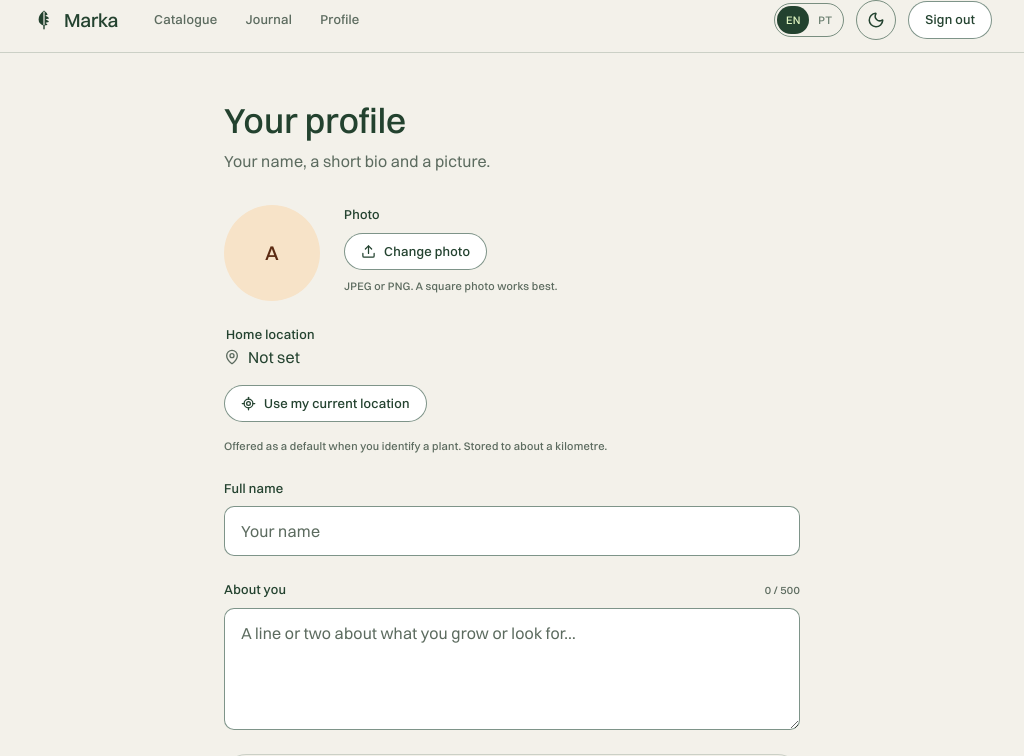
ProfilePage › rebuilds a missing profile row and saves again
In the field labelled "Full name": (512, 531) [224,506,800,556], type "Artur"
(page scrolled)
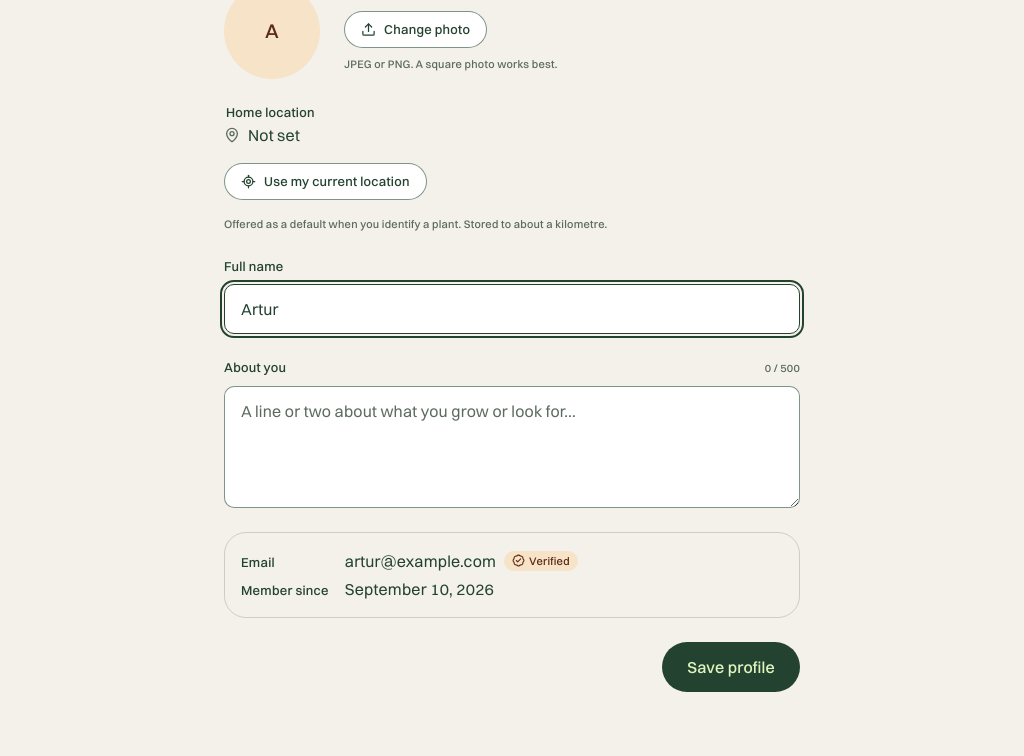
Click the button "Save profile": (731, 667) [662,642,800,692]
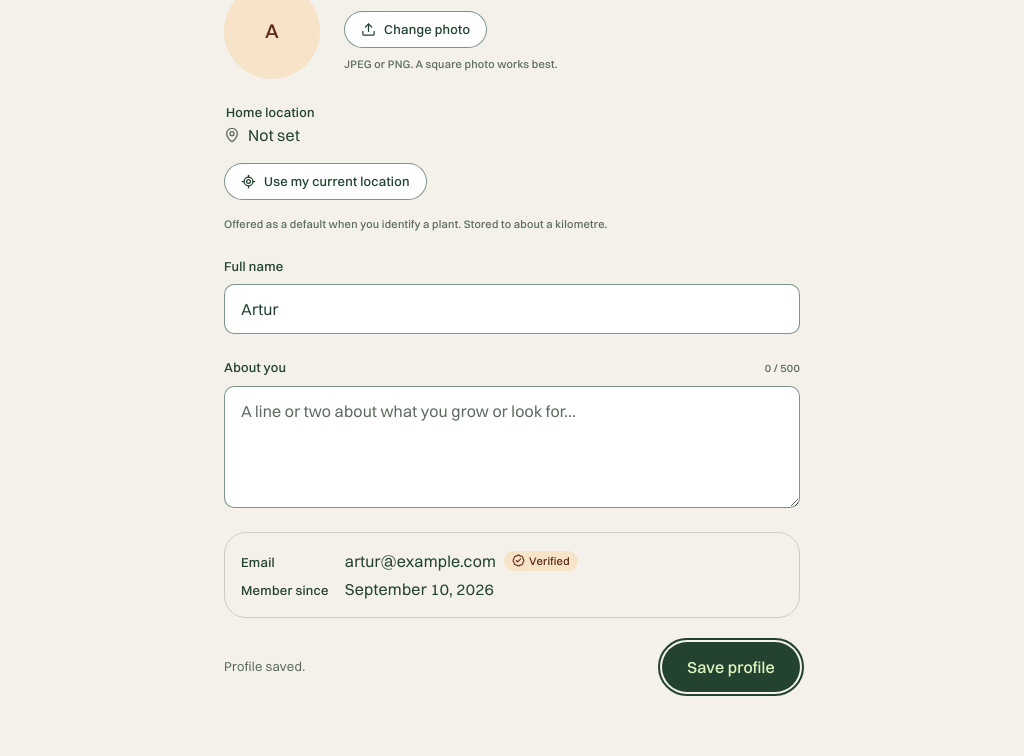
Check: the text "Profile saved." is shown, box [224,657,305,676]
